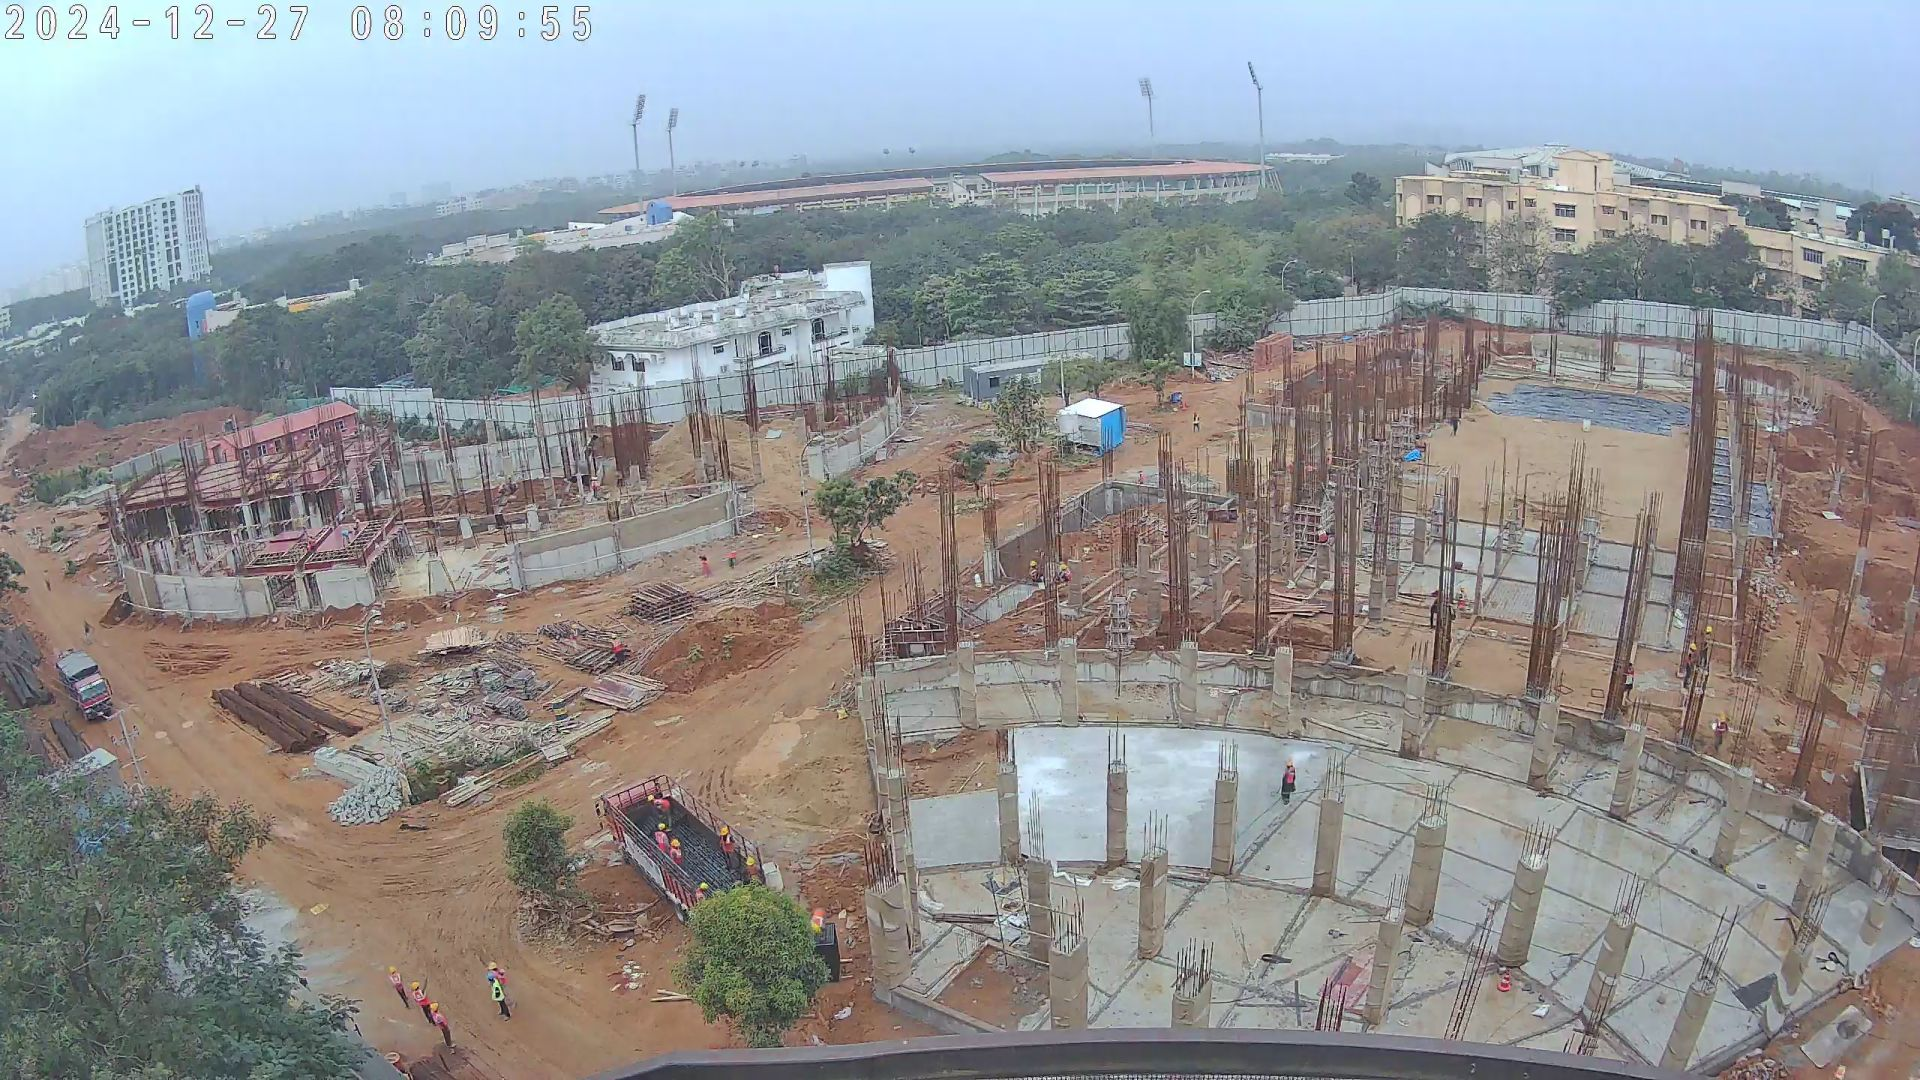truck: (596, 773, 770, 940), (54, 648, 116, 730)
worker: (407, 976, 431, 1037), (429, 998, 455, 1052), (649, 820, 680, 863), (486, 973, 510, 1020), (386, 966, 410, 1013), (710, 824, 733, 870), (639, 786, 669, 818), (804, 913, 827, 954), (746, 857, 767, 898), (1280, 755, 1296, 808), (1683, 643, 1699, 691), (1619, 662, 1634, 707), (1714, 711, 1729, 754), (1701, 623, 1712, 672), (695, 876, 711, 909), (610, 632, 625, 667), (697, 551, 711, 581), (1056, 561, 1072, 587), (1028, 558, 1042, 587), (487, 960, 509, 978), (1448, 413, 1462, 441), (1454, 584, 1469, 610), (571, 623, 583, 652), (1315, 521, 1327, 547), (42, 567, 55, 590), (588, 476, 601, 499), (340, 525, 354, 545), (727, 549, 739, 572), (351, 514, 363, 536), (1190, 411, 1199, 438), (1136, 472, 1145, 485)
